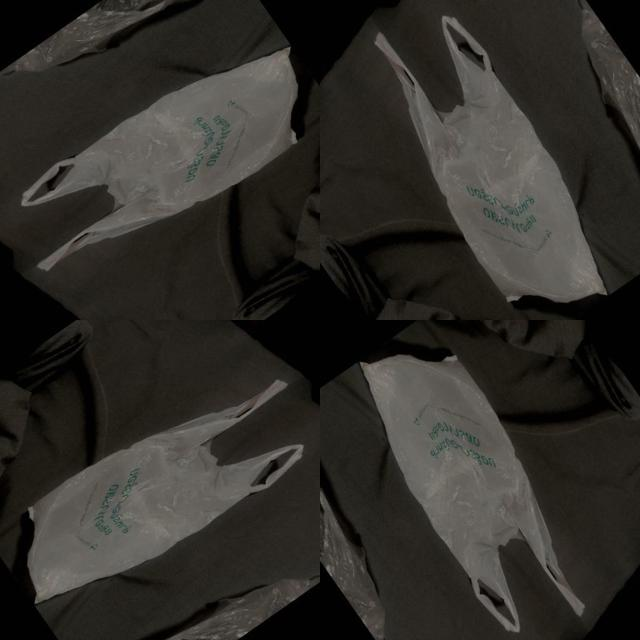Single-layer Plastic: (375, 16, 605, 302), (361, 355, 584, 631), (28, 380, 304, 602), (21, 49, 296, 270)
